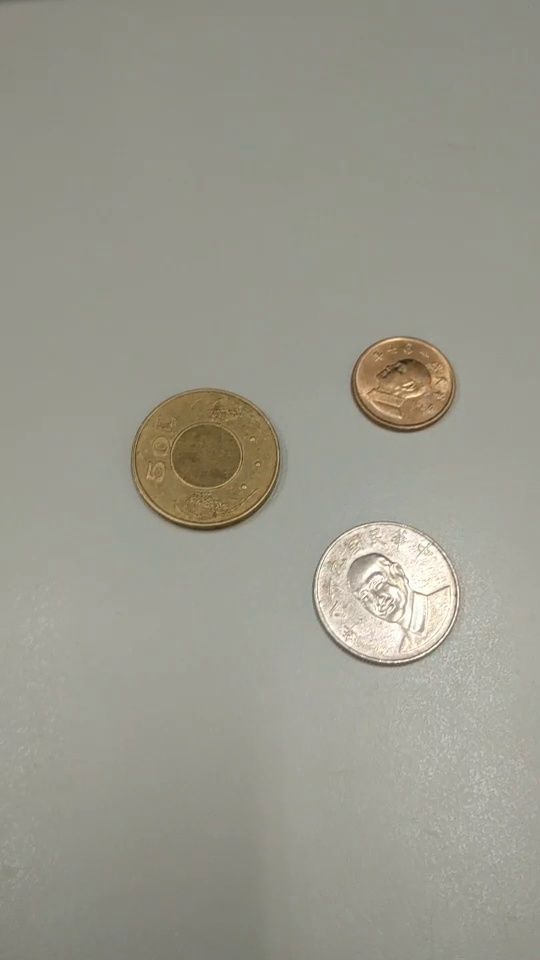NT$ 1: (351, 335, 458, 434)
NT$ 10: (313, 521, 462, 667)
NT$ 50: (129, 388, 282, 534)
